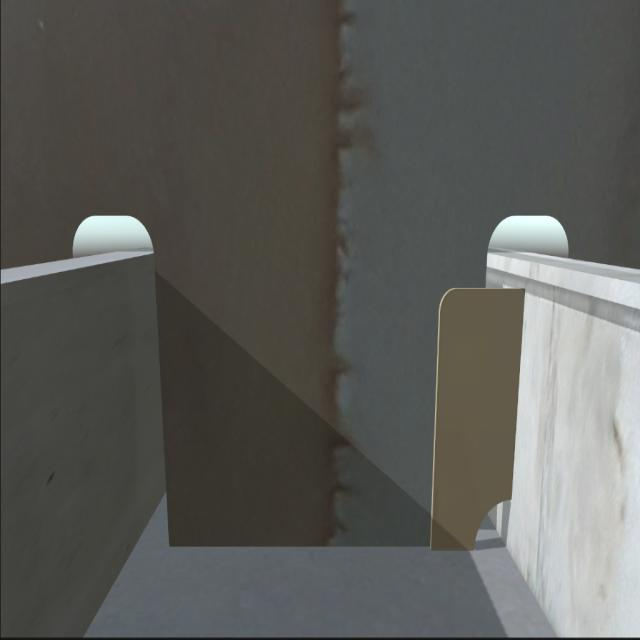fillet_hole: (473, 497, 513, 547)
fillet_yong_jeop_jang: (160, 527, 486, 559)
longi_yong_jeop_jang: (507, 274, 530, 506)
plate_CP05: (428, 284, 522, 551)
